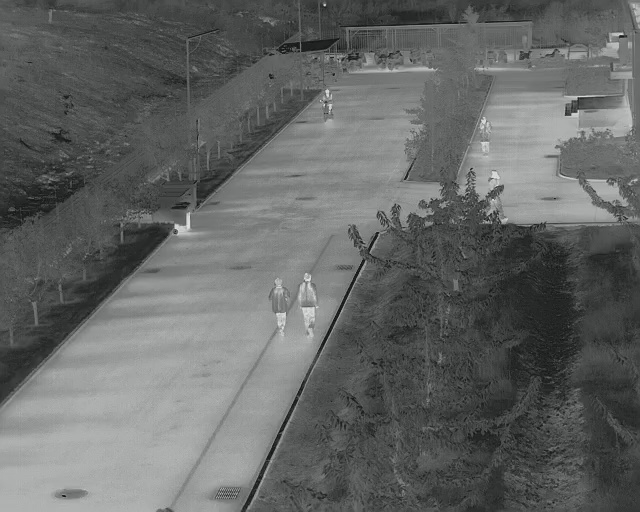NonMotorVehicle: (317, 85, 338, 121)
person: (265, 275, 292, 338), (296, 271, 321, 338), (477, 116, 494, 156)
